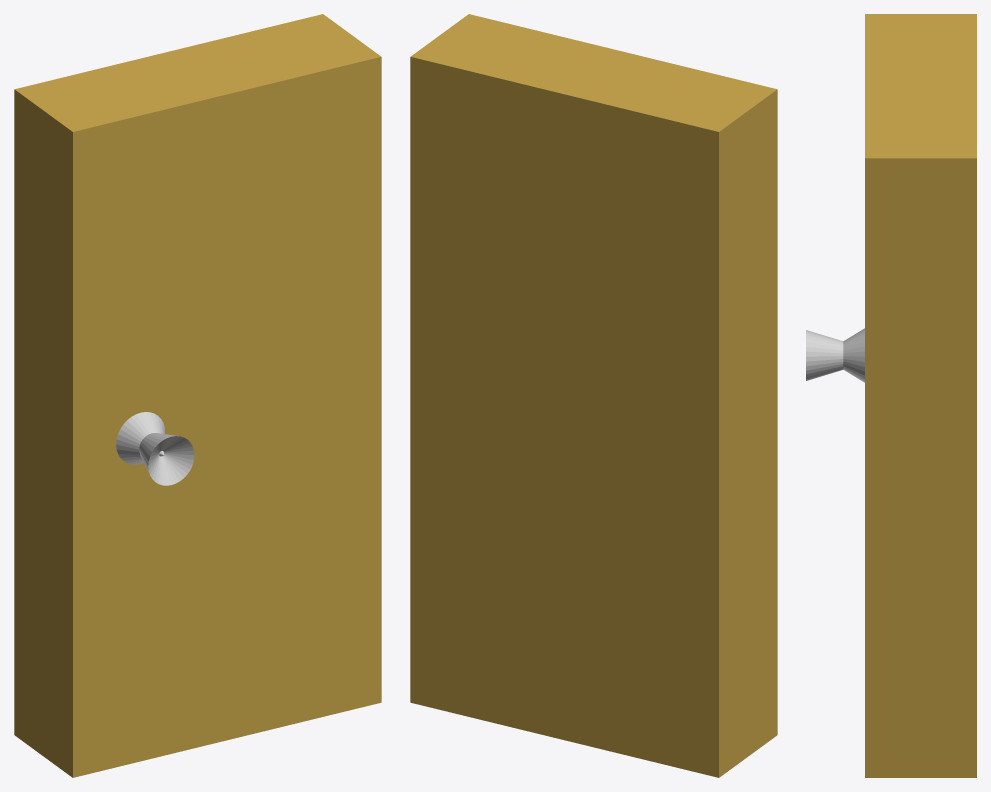
The model's file is Puerta de madera v1.dae.
3 renders of one model, left to right at view 1: azimuth 30°, elevation 25°; view 2: azimuth 150°, elevation 25°; view 3: azimuth 270°, elevation 25°, orthographic. The views are drawn at different scales.
Visible parts, largest first — view 1: Puerta_004; view 2: Puerta_004; view 3: Puerta_004.
Part boxes in pixels (left/top/right/bottom): Puerta_004: left=14, top=14, right=381, bottom=777; Puerta_004: left=410, top=14, right=777, bottom=777; Puerta_004: left=806, top=14, right=976, bottom=777.
Size of the model in its own units: 1 by 0.5 by 2.
